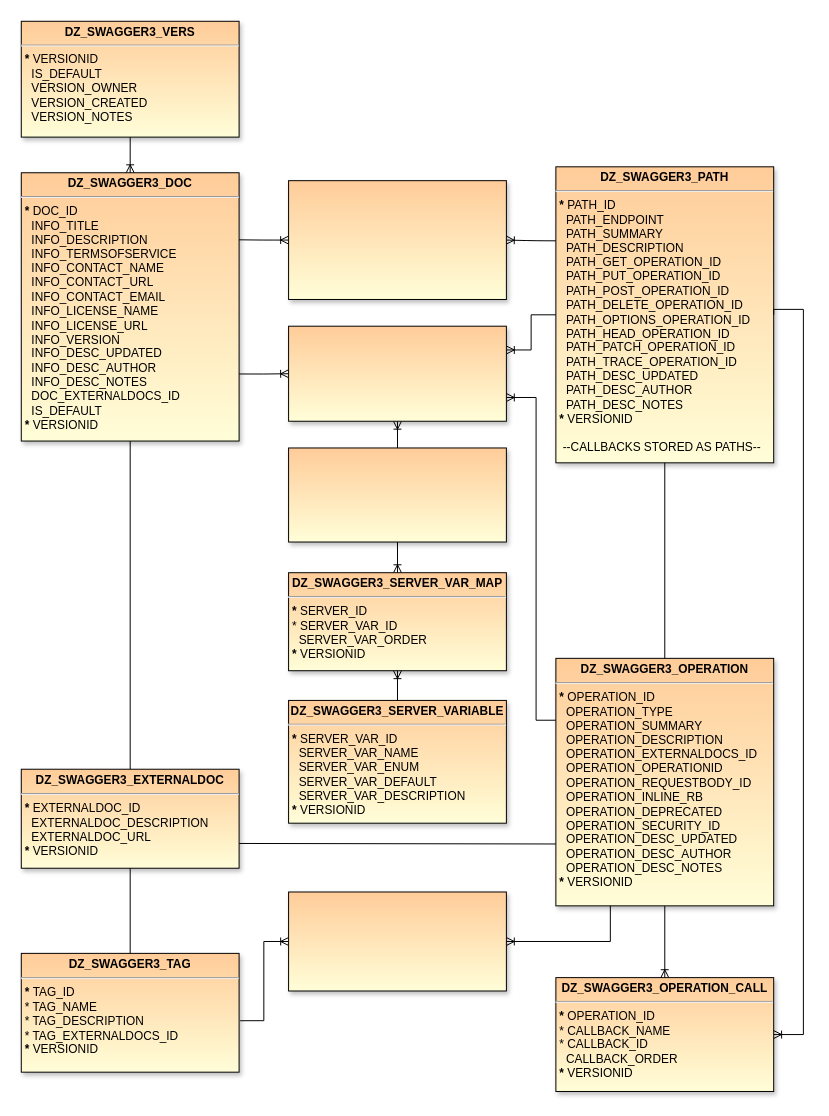
Some shapes in this 829 by 1116 pixel diagram are drawn without their labels. The shapes that lost their labels are listed below. From the top down, each one's centre as x and y in pixels, then its label:
At [398,241]: "DZ_SWAGGER3_GROUP * GROUP_ID * DOC_ID * PATH_ID PATH_ORDER * VERSIONID".
At [398,374]: "DZ_SWAGGER3_PARENT_SERVER * PARENT_ID * SERVER _ID SERVER_ORDER * VERSIONID".
At [398,496]: "DZ_SWAGGER3_SERVER * SERVER _ID SERVER_URL SERVER_DESCRIPTION * VERSIONID".
At [398,942]: "DZ_SWAGGER3_OPERATION_TAG * OPERATION_ID * TAG_NAME * TAG_ID * VERSIONID".
